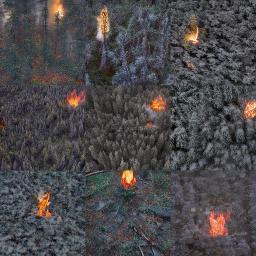Small fire: (27, 179, 63, 229), (200, 197, 237, 242), (91, 6, 127, 46), (180, 15, 213, 55), (143, 85, 173, 127), (113, 162, 145, 197), (55, 82, 87, 117), (41, 0, 76, 31), (235, 94, 256, 125)
